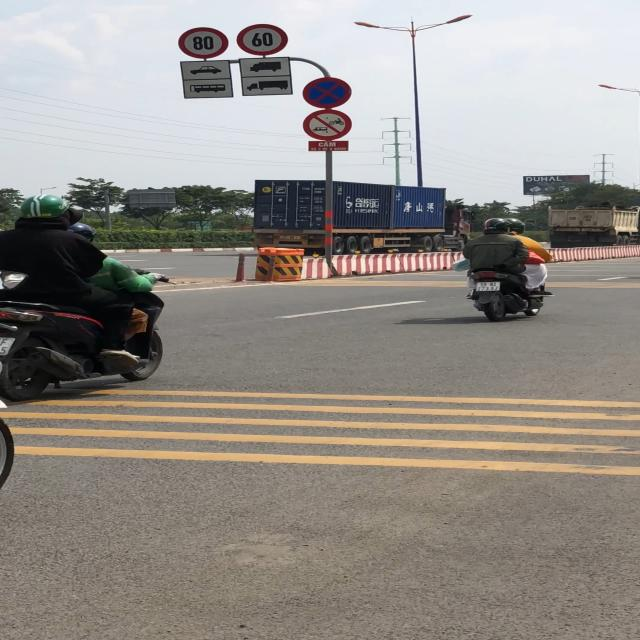Bien bao cam dung xe va do xe: (300, 77, 353, 110)
Bien bao toc do toi da cho phep: (173, 25, 234, 59), (233, 22, 291, 56)
